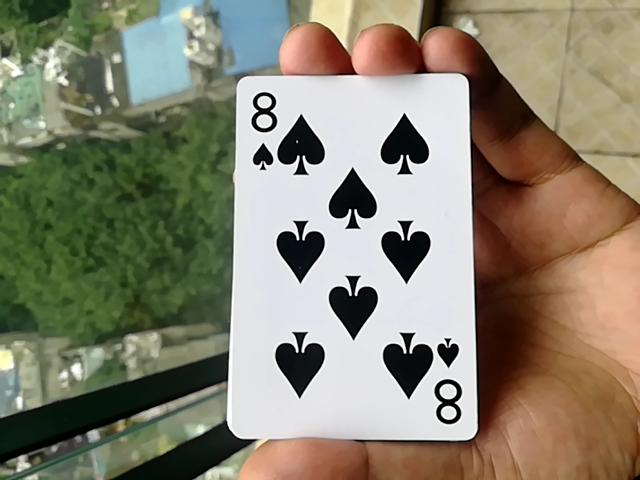ht 8: (224, 63, 466, 447)
